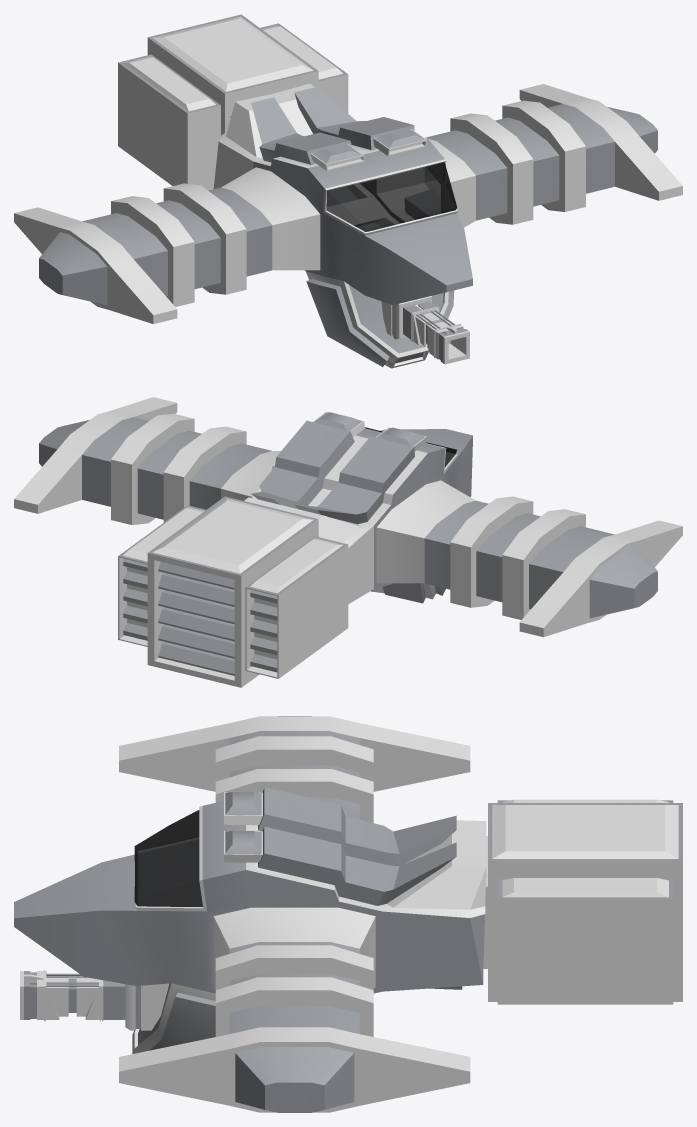
The model's file is CEB.fbx.
3 renders of one model, top to bottom at view 1: azimuth 30°, elevation 25°; view 2: azimuth 150°, elevation 25°; view 3: azimuth 270°, elevation 25°, orthographic. The views are drawn at different scales.
Visible parts, largest first — view 1: CEB; view 2: CEB; view 3: CEB.
Part boxes in pixels (left/top/right/bottom): CEB: left=14, top=14, right=682, bottom=368; CEB: left=14, top=397, right=682, bottom=687; CEB: left=14, top=716, right=682, bottom=1112.
Size of the model in its own units: 8.9 by 2.8 by 6.86.
